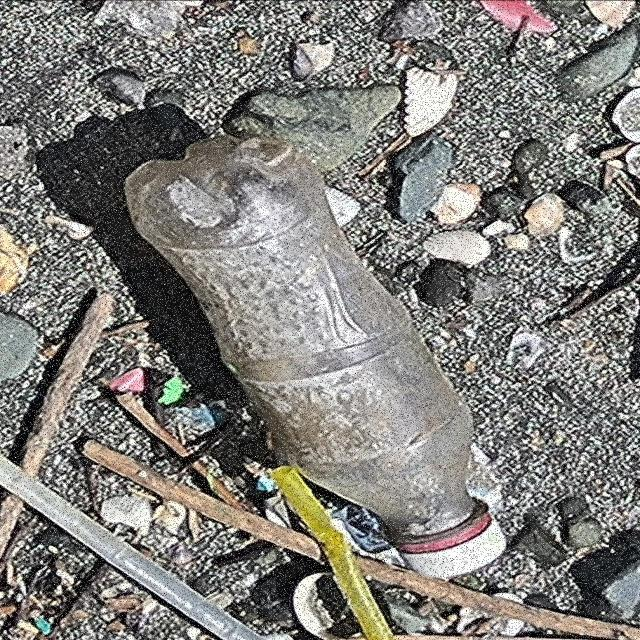plastic_waste: (124, 134, 506, 579)
